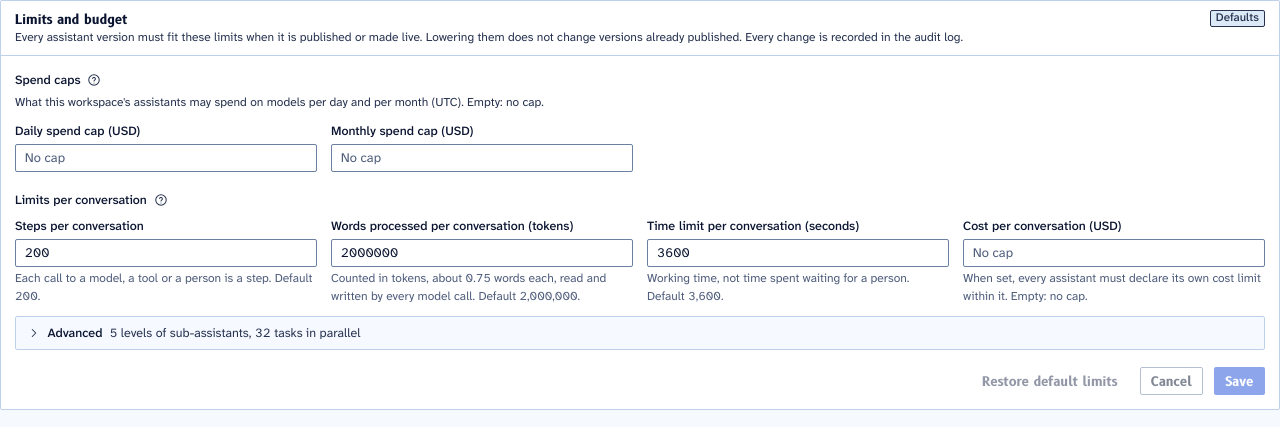
it: NodeLimitsSection › goes straight from the edited values to the saved ones, never back to the old values
Replace the text in the field labelled "Steps per conversation" with "75": [166, 253] box [15,239,317,267]
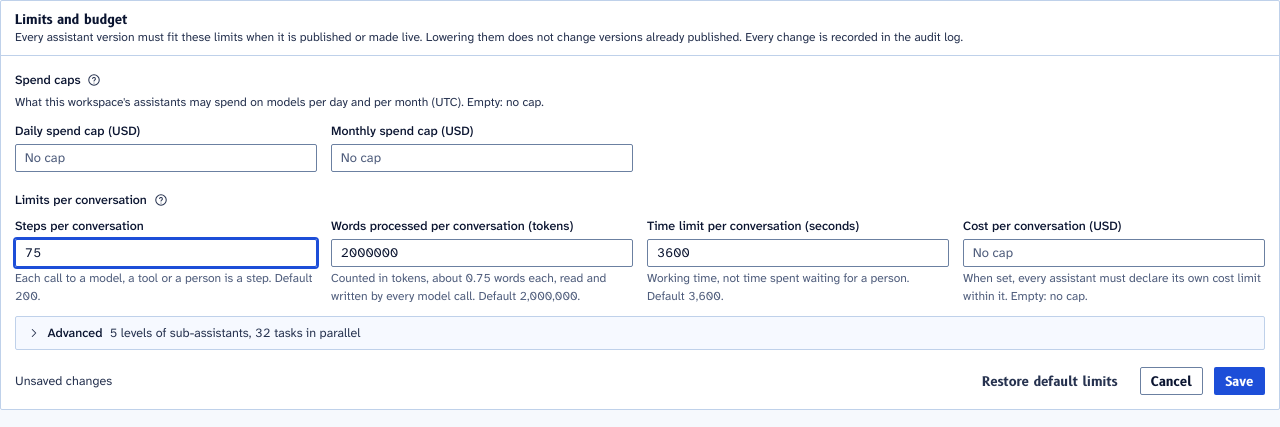
Click the button "Save": [1239, 381] box [1214,367,1265,395]
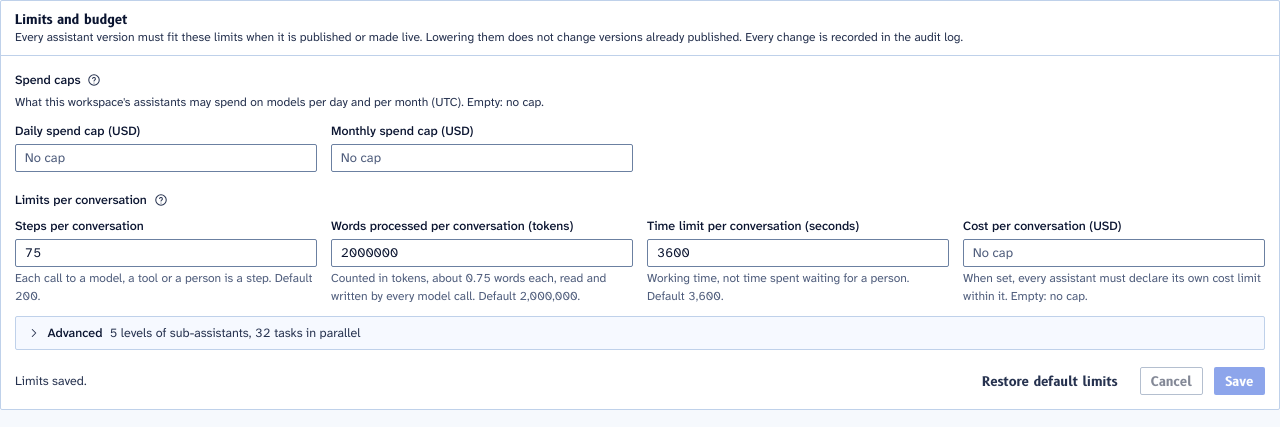
Expected: the message reads "Limits saved.", [15,373,86,389]
